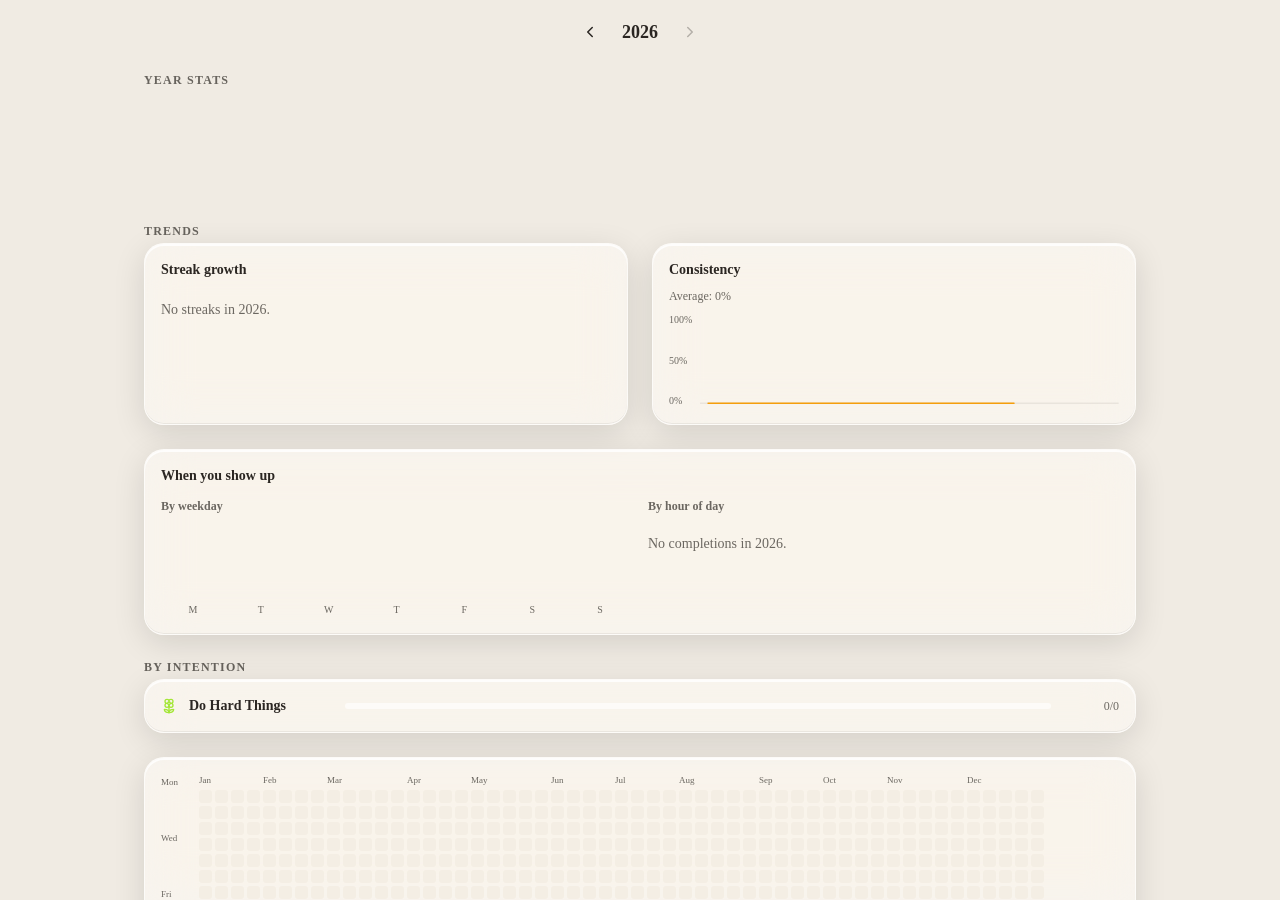
Test: weekly trend tile (R6) › shows a past year as counts with no All year and no comparison (R6.4)
What coordinates should you click on to do the following:
click the button named "Previous year"
I would click on:
 (590, 32)
Its box is [570, 12, 610, 52].
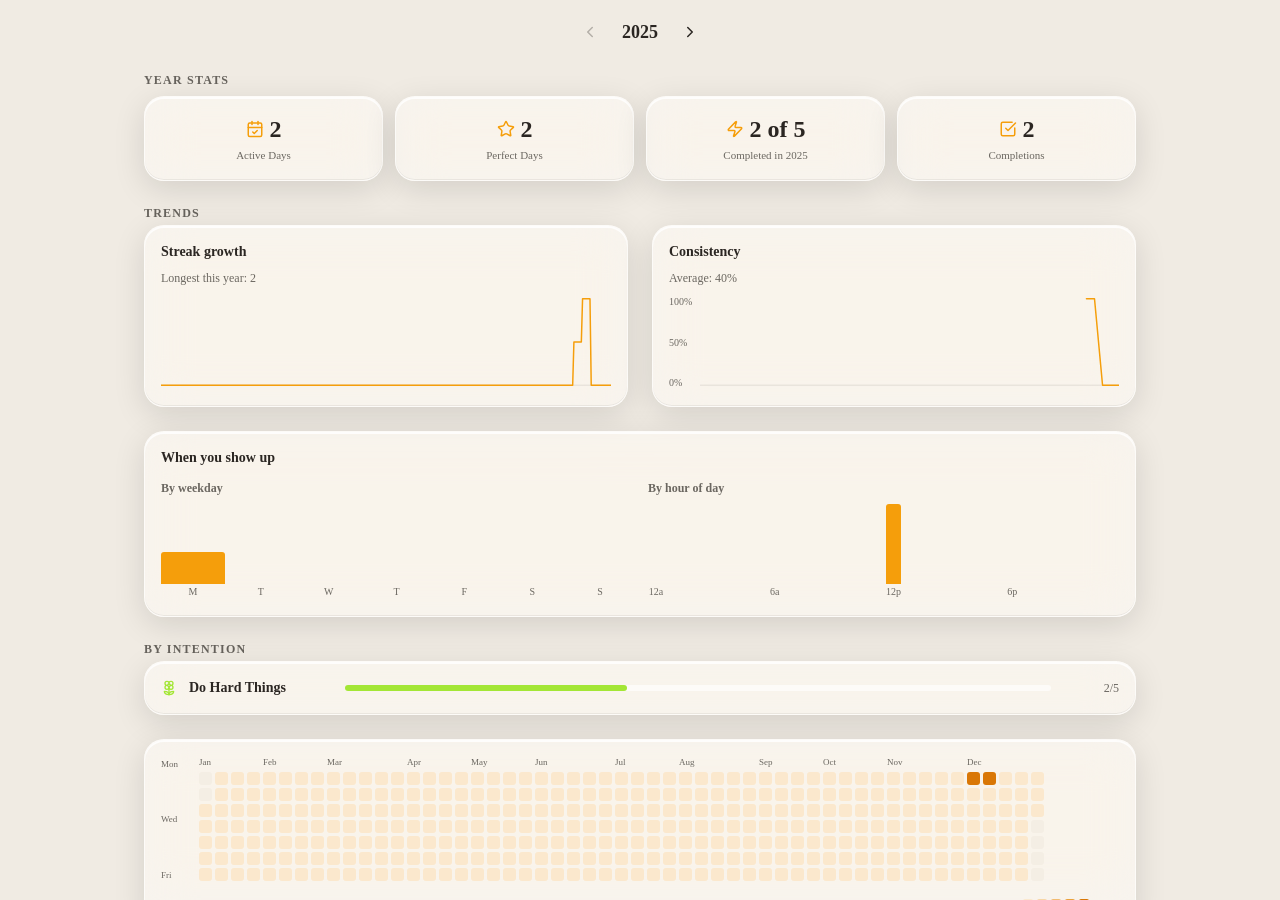
Expected: the text "Completed in 2025" is shown, [723, 147, 808, 164]
Expected: the text "2 of 5" is shown, [726, 113, 806, 145]
